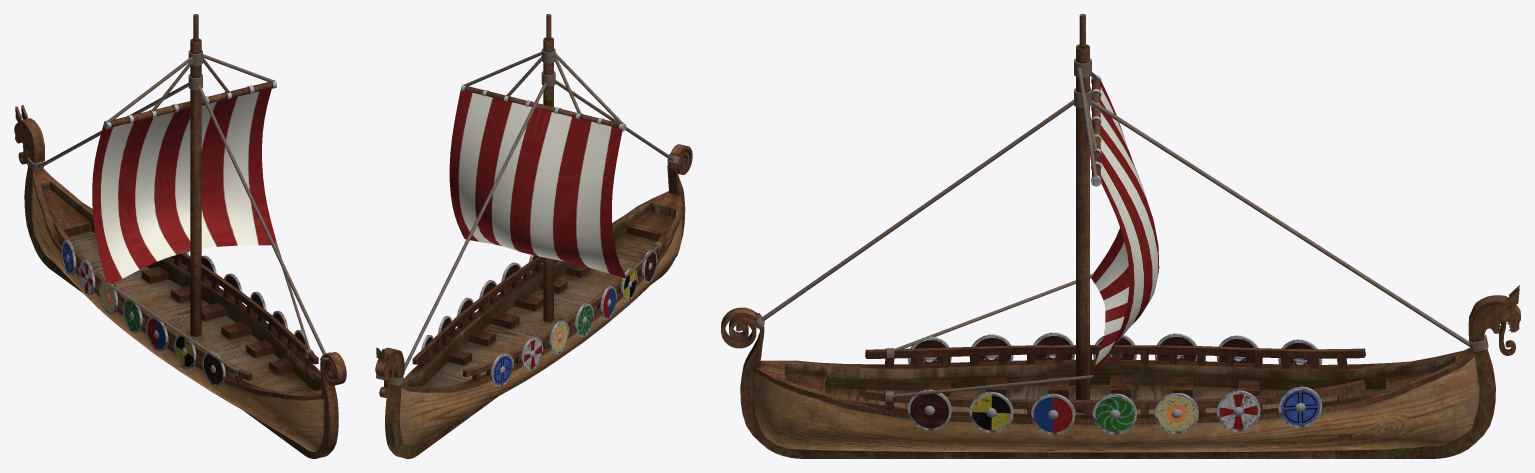
Rendered from ship_longship.glb.
3 renders of one model, left to right at view 1: azimuth 30°, elevation 25°; view 2: azimuth 150°, elevation 25°; view 3: azimuth 270°, elevation 25°, orthographic. The views are drawn at different scales.
Parts seen in each view (by area): view 1: _Ship__Longship_0, _Sail_Sail_0, _Shields_Round Shield_0; view 2: _Ship__Longship_0, _Sail_Sail_0, _Shields_Round Shield_0; view 3: _Ship__Longship_0, _Shields_Round Shield_0, _Sail_Sail_0.
Part boxes in pixels (box(x1,y1,x2,y2)): _Ship__Longship_0: box(14, 14, 346, 458); _Sail_Sail_0: box(92, 88, 276, 286); _Shields_Round Shield_0: box(61, 240, 306, 386); _Ship__Longship_0: box(375, 14, 692, 458); _Sail_Sail_0: box(449, 90, 626, 278); _Shields_Round Shield_0: box(421, 249, 657, 386); _Ship__Longship_0: box(721, 14, 1520, 458); _Shields_Round Shield_0: box(907, 332, 1322, 434); _Sail_Sail_0: box(1091, 81, 1159, 378).
Size of the model in its own units: 5.81 by 11.65 by 19.15.
3 materials, 3 textured.
